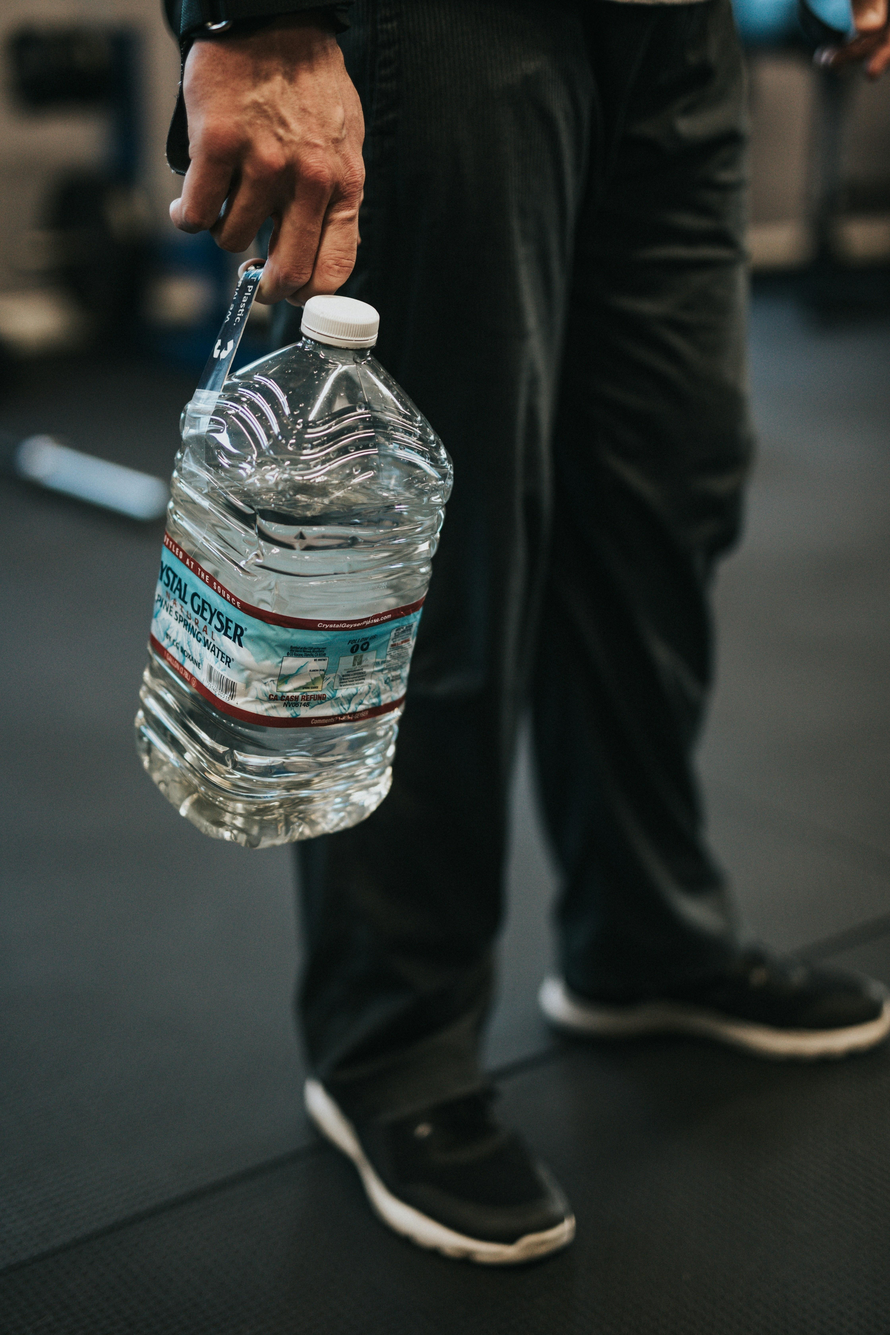Bottle-Detection: (115, 221, 469, 892)
